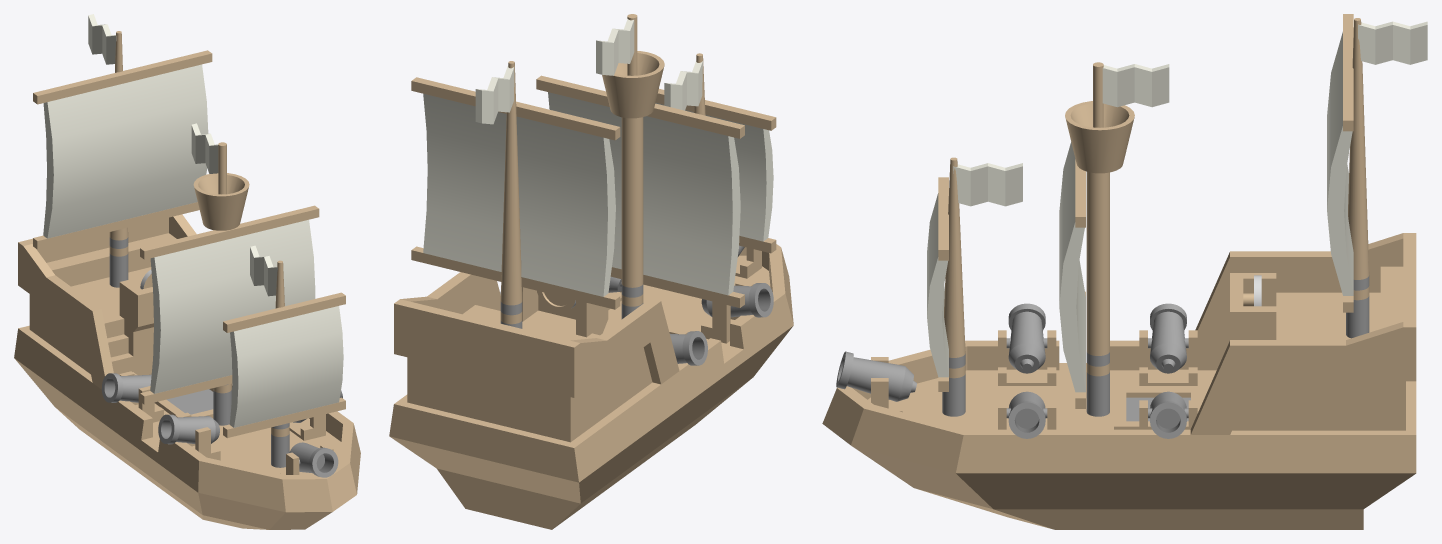
Rendered from watercraftPack_007.glb.
The picture shows the model from 3 angles, left to right: view 1: azimuth 30°, elevation 25°; view 2: azimuth 150°, elevation 25°; view 3: azimuth 270°, elevation 25°; orthographic projection. The views are drawn at different scales.
Visible parts, largest first — view 1: Mesh22 Group12 Group1 Model, Mesh15 Group17 Group12 Group1 Model, Mesh12 Group14 Group12 Group1 Model, Mesh19 Group21 Group12 Group1 Model, Mesh16 Group18 Group12 Group1 Model, Mesh14 Group16 Group12 Group1 Model, Mesh7 Group8 Cannon_right_1 Group1 Model, Mesh13 Group15 Group12 Group1 Model, Mesh5 Group6 Cannon_front Group1 Model, Mesh9 Group10 Cannon_right_2 Group1 Model, Mesh20 Group22 Group12 Group1 Model, Mesh18 Group20 Group12 Group1 Model (+5 smaller); view 2: Mesh22 Group12 Group1 Model, Mesh15 Group17 Group12 Group1 Model, Mesh12 Group14 Group12 Group1 Model, Mesh19 Group21 Group12 Group1 Model, Mesh13 Group15 Group12 Group1 Model, Mesh14 Group16 Group12 Group1 Model, Mesh16 Group18 Group12 Group1 Model, Mesh18 Group20 Group12 Group1 Model, Mesh17 Group19 Group12 Group1 Model, Mesh21 Group23 Group12 Group1 Model, Mesh7 Group8 Cannon_right_1 Group1 Model, Mesh9 Group10 Cannon_right_2 Group1 Model (+3 smaller); view 3: Mesh22 Group12 Group1 Model, Mesh13 Group15 Group12 Group1 Model, Mesh15 Group17 Group12 Group1 Model, Mesh12 Group14 Group12 Group1 Model, Mesh14 Group16 Group12 Group1 Model, Mesh20 Group22 Group12 Group1 Model, Mesh16 Group18 Group12 Group1 Model, Mesh19 Group21 Group12 Group1 Model, Mesh18 Group20 Group12 Group1 Model, Mesh17 Group19 Group12 Group1 Model, Mesh21 Group23 Group12 Group1 Model, Mesh7 Group8 Cannon_right_1 Group1 Model (+7 smaller).
Boxes of the visible parts, x1,y1,x2,y2 form: Mesh22 Group12 Group1 Model: (14,214,360,529); Mesh15 Group17 Group12 Group1 Model: (33,50,212,249); Mesh12 Group14 Group12 Group1 Model: (140,205,319,404); Mesh19 Group21 Group12 Group1 Model: (223,292,345,437); Mesh16 Group18 Group12 Group1 Model: (193,173,249,230); Mesh14 Group16 Group12 Group1 Model: (109,31,128,287); Mesh7 Group8 Cannon_right_1 Group1 Model: (158,414,219,444); Mesh13 Group15 Group12 Group1 Model: (213,142,231,425); Mesh5 Group6 Cannon_front Group1 Model: (289,442,338,477); Mesh9 Group10 Cannon_right_2 Group1 Model: (101,373,151,402); Mesh20 Group22 Group12 Group1 Model: (271,260,289,467); Mesh18 Group20 Group12 Group1 Model: (88,14,116,64); Mesh22 Group12 Group1 Model: (389,244,793,529); Mesh15 Group17 Group12 Group1 Model: (411,77,620,309); Mesh12 Group14 Group12 Group1 Model: (536,75,744,307); Mesh19 Group21 Group12 Group1 Model: (655,88,776,253); Mesh13 Group15 Group12 Group1 Model: (621,14,643,319); Mesh14 Group16 Group12 Group1 Model: (500,61,522,328); Mesh16 Group18 Group12 Group1 Model: (602,51,664,118); Mesh18 Group20 Group12 Group1 Model: (475,65,514,124); Mesh17 Group19 Group12 Group1 Model: (596,19,634,75); Mesh21 Group23 Group12 Group1 Model: (664,61,702,110); Mesh7 Group8 Cannon_right_1 Group1 Model: (701,283,773,317); Mesh9 Group10 Cannon_right_2 Group1 Model: (670,331,707,365); Mesh22 Group12 Group1 Model: (822,233,1416,529); Mesh13 Group15 Group12 Group1 Model: (1086,62,1109,416); Mesh15 Group17 Group12 Group1 Model: (1327,14,1353,312); Mesh12 Group14 Group12 Group1 Model: (1059,142,1085,408); Mesh14 Group16 Group12 Group1 Model: (1346,18,1369,338); Mesh20 Group22 Group12 Group1 Model: (942,157,965,416); Mesh16 Group18 Group12 Group1 Model: (1065,101,1134,173); Mesh19 Group21 Group12 Group1 Model: (927,177,948,391); Mesh18 Group20 Group12 Group1 Model: (1358,21,1427,64); Mesh17 Group19 Group12 Group1 Model: (1102,64,1169,107); Mesh21 Group23 Group12 Group1 Model: (953,163,1022,206); Mesh7 Group8 Cannon_right_1 Group1 Model: (1008,303,1045,373).
Size of the model in its own units: 3.77 by 8.01 by 9.
